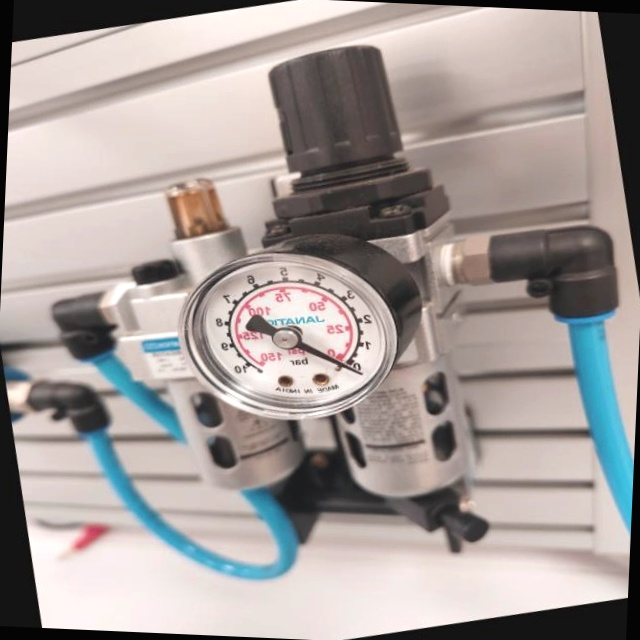FRL unit: (0, 0, 640, 639)
push button: (157, 208, 446, 448)
